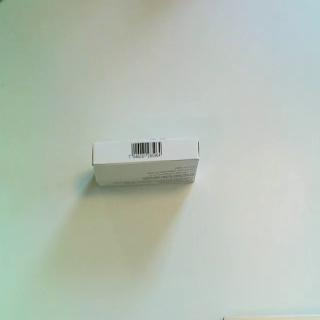oxycontin15mg: (91, 136, 202, 191)
